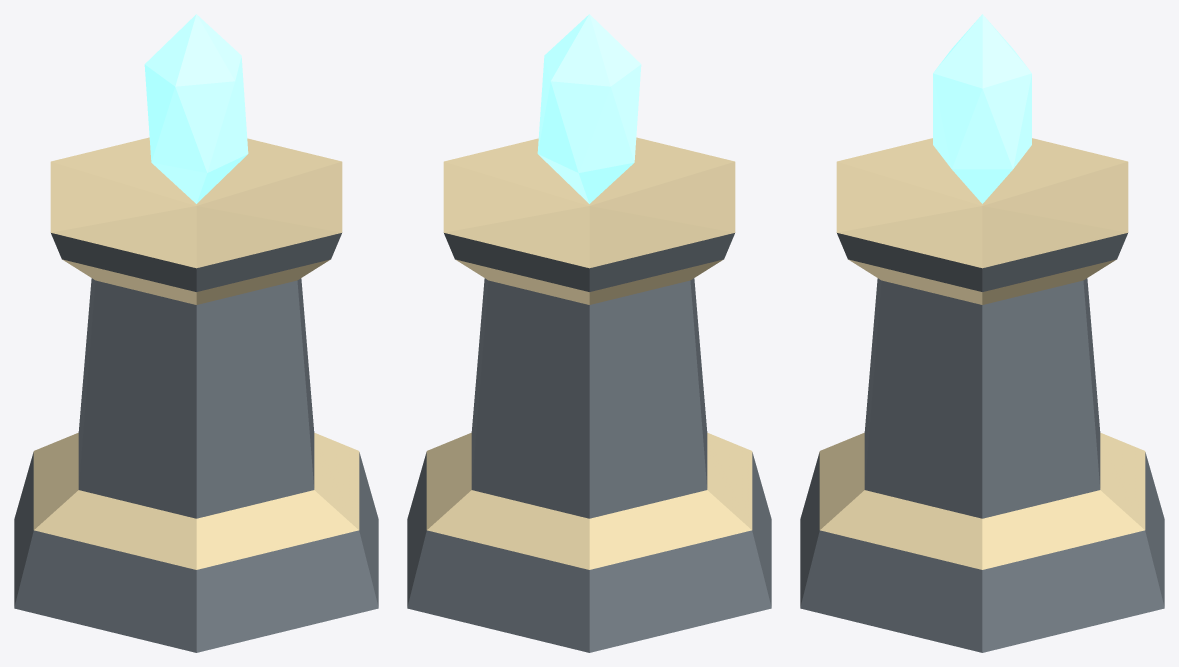
File: relic_pedestal.glb
3 renders of one model, left to right at view 1: azimuth 30°, elevation 25°; view 2: azimuth 150°, elevation 25°; view 3: azimuth 270°, elevation 25°, orthographic.
Parts seen in each view (by area): view 1: Relic_Pedestal; view 2: Relic_Pedestal; view 3: Relic_Pedestal.
Part boxes in pixels (bbox=[...]): Relic_Pedestal: bbox=[14, 14, 378, 652]; Relic_Pedestal: bbox=[407, 14, 771, 652]; Relic_Pedestal: bbox=[800, 14, 1164, 652].
Size of the model in its own units: 1.3 by 1.87 by 1.13.
